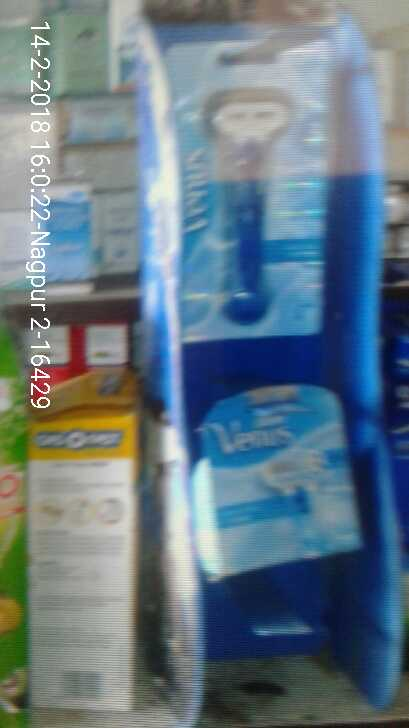venus: (173, 46, 323, 335), (194, 381, 374, 573)
